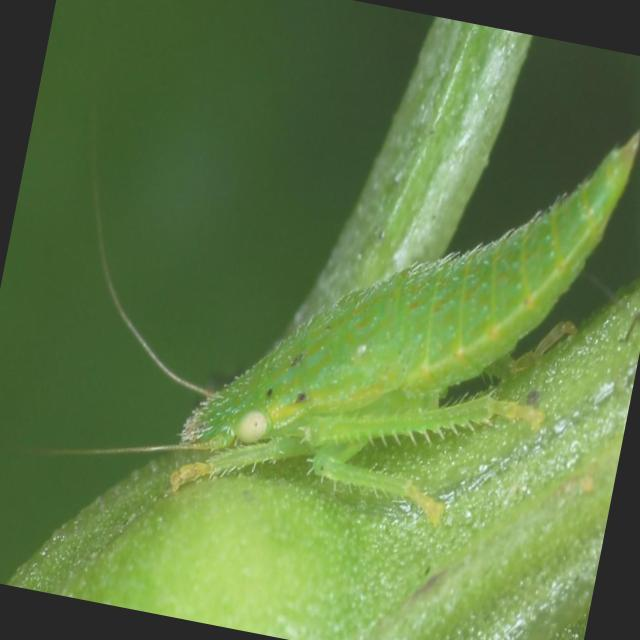green leaf hopper: (67, 131, 639, 519)
